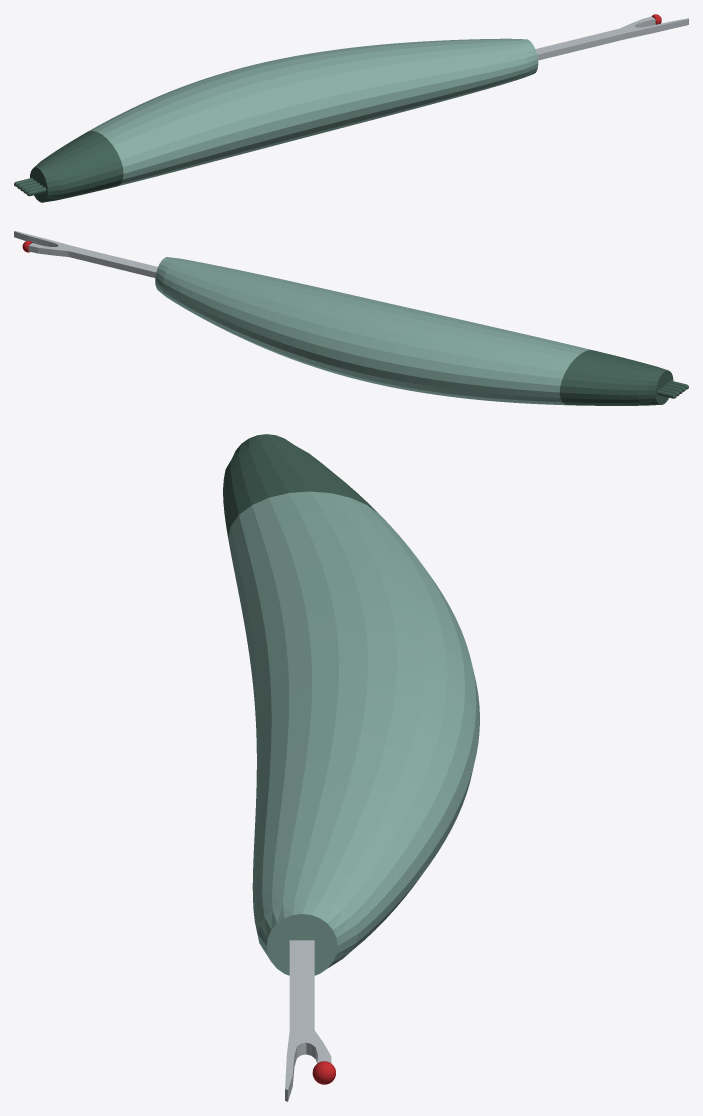
The picture shows the model from 3 angles, top to bottom: view 1: azimuth 30°, elevation 25°; view 2: azimuth 150°, elevation 25°; view 3: azimuth 270°, elevation 25°; orthographic projection. The views are drawn at different scales.
Visible parts, largest first — view 1: Ergonomic_handle_with_integral_heel, Continuous_forked_steel_shank; view 2: Ergonomic_handle_with_integral_heel, Continuous_forked_steel_shank; view 3: Ergonomic_handle_with_integral_heel, Continuous_forked_steel_shank.
Part boxes in pixels (x1,y1,x2,y2): Ergonomic_handle_with_integral_heel: (14,38,538,202); Continuous_forked_steel_shank: (535,16,688,60); Ergonomic_handle_with_integral_heel: (155,257,688,405); Continuous_forked_steel_shank: (14,231,157,277); Ergonomic_handle_with_integral_heel: (223,434,479,975); Continuous_forked_steel_shank: (285,940,331,1101).
Bounding box in the file's own units: 0.1295 × 0.012 × 0.0217.
